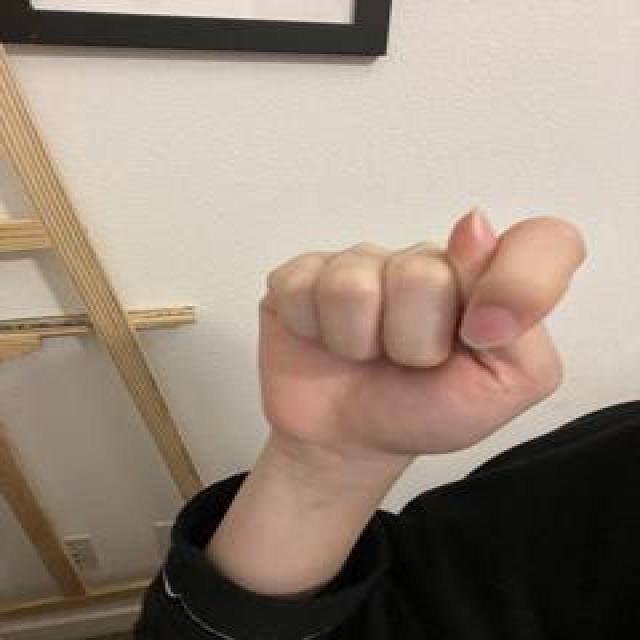T: (250, 202, 594, 460)
